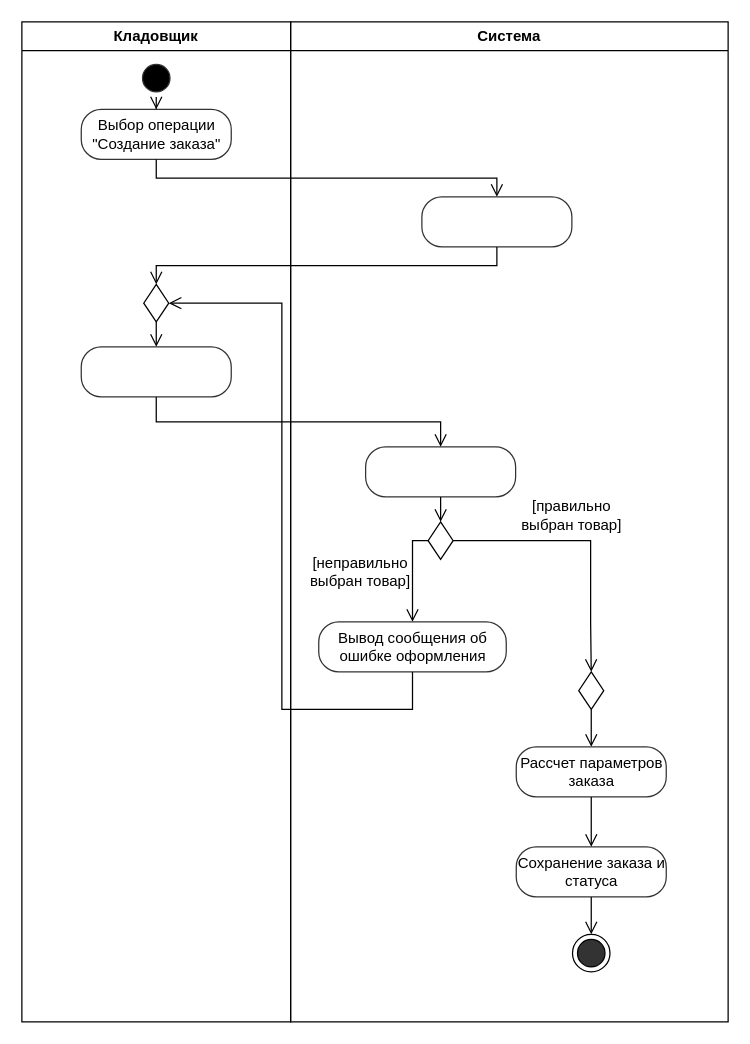
The diagram is 750 pixels wide and 1044 high, and some of its shapes have lost their labels. Here are the shapes that lost their labels. From the top down, the box of each, then its label:
(421, 196, 572, 247): Отображение формы заказа
(80, 346, 231, 397): Ввод данных заказа
(364, 446, 516, 497): Проверка корректности данных о товаре
